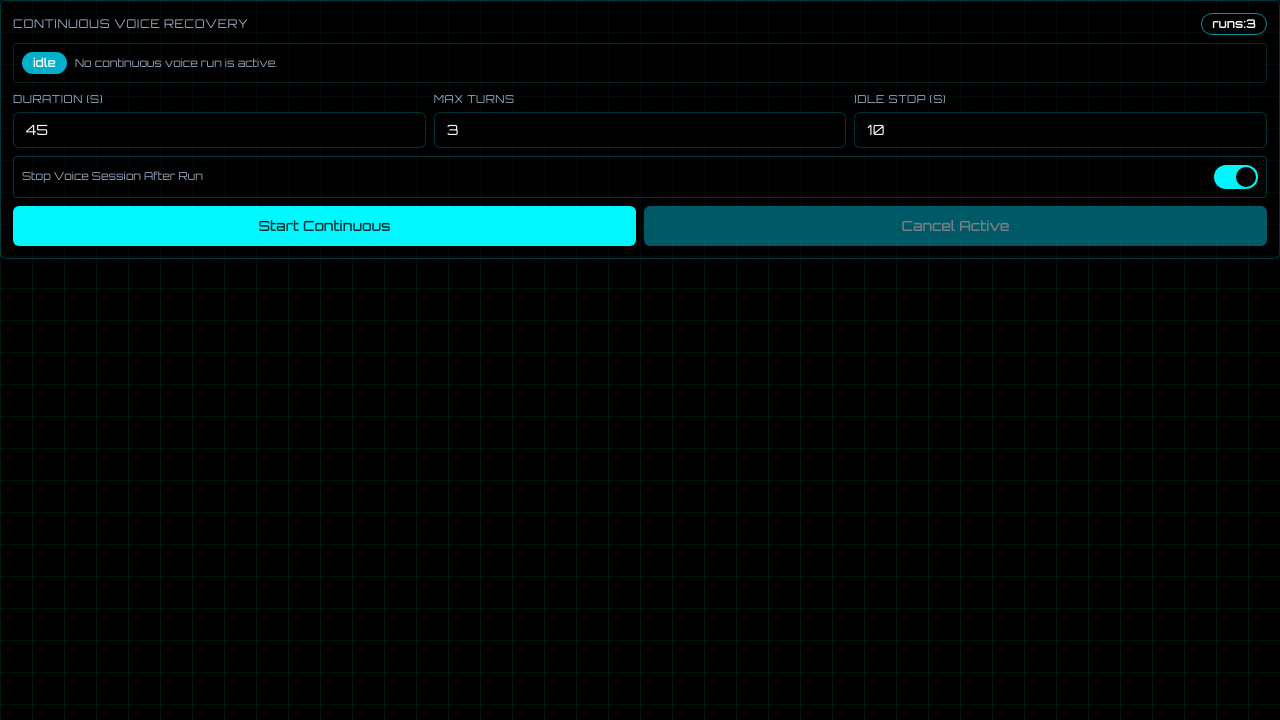
it: VoiceContinuousControls › clamps numeric inputs to supported voice session ranges
Replace the text in the number field with test id "voice-continuous-duration" with "1" at (219, 130), box [13,112,426,148]
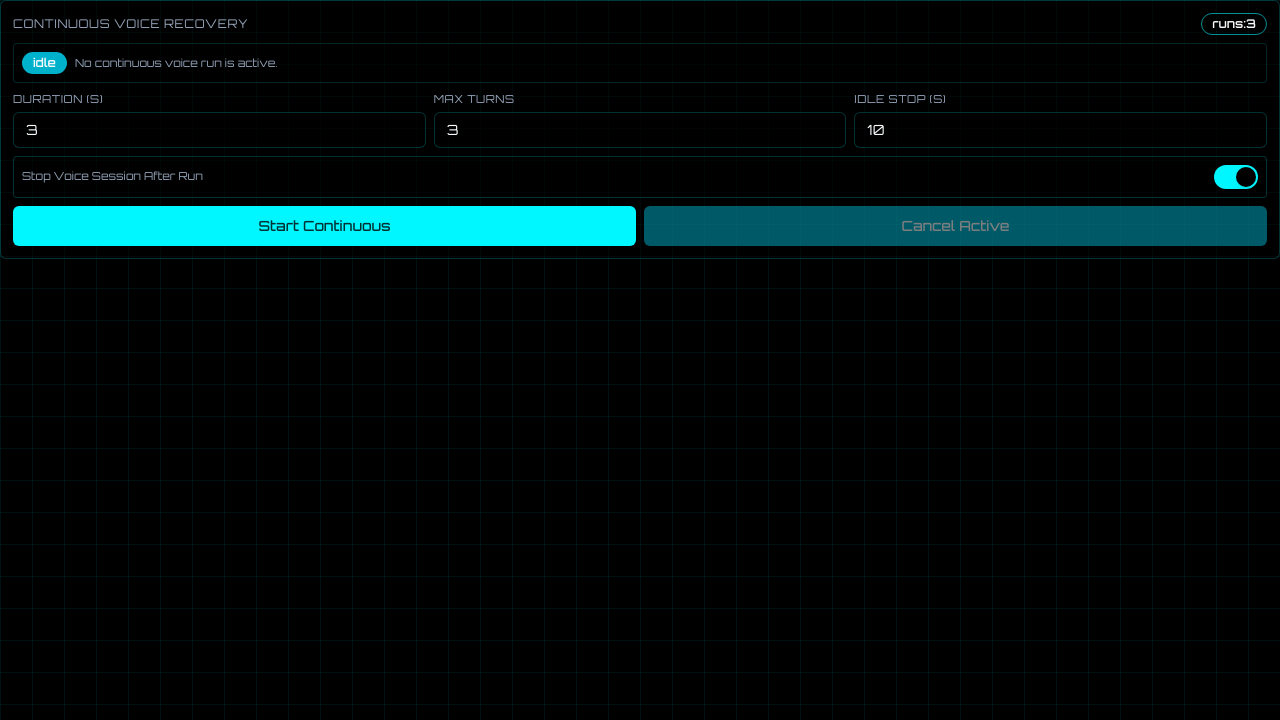
Replace the text in the number field with test id "voice-continuous-duration" with "999" at (219, 130), box [13,112,426,148]
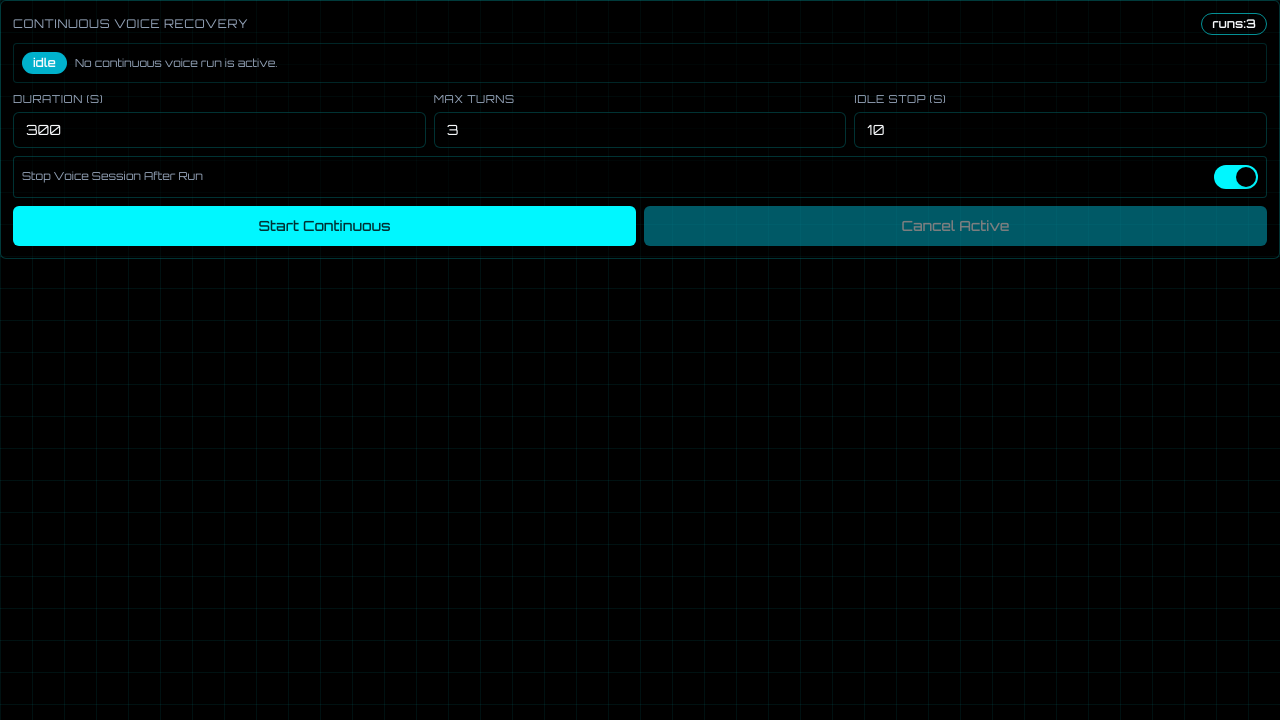
Replace the text in the number field with test id "voice-continuous-max-turns" with "0" at (640, 130), box [434,112,846,148]
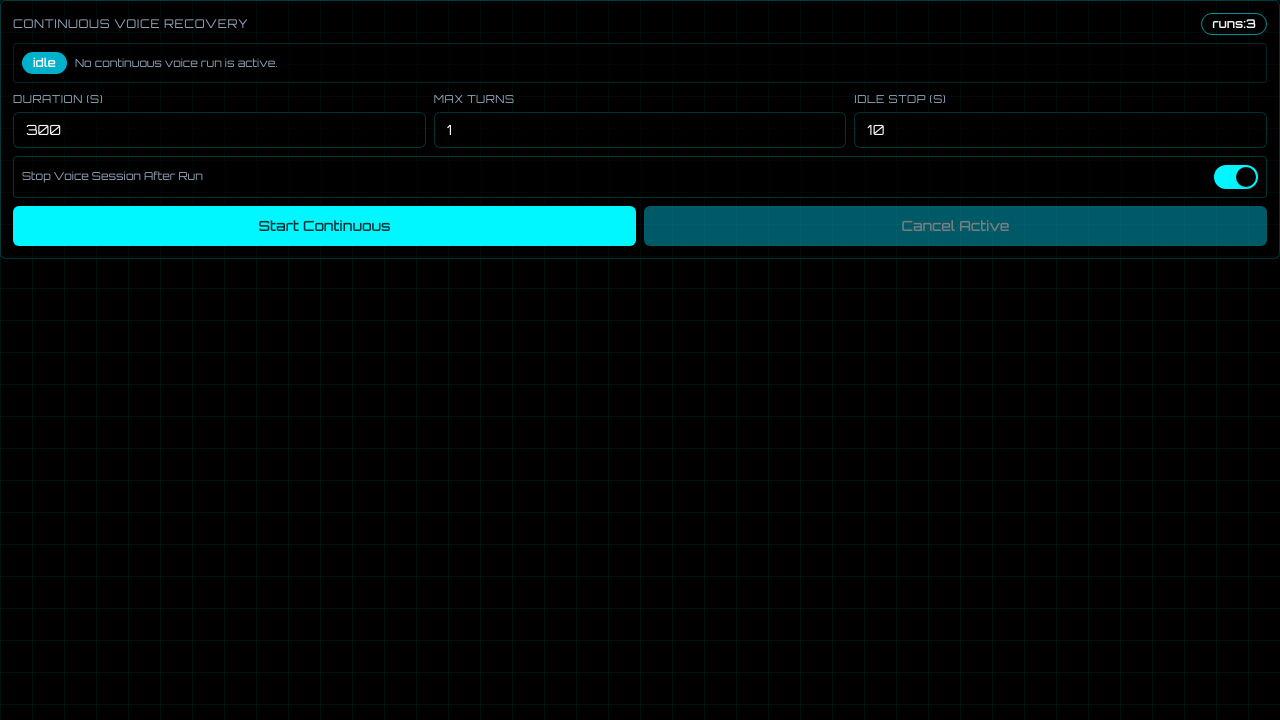
Replace the text in the number field with test id "voice-continuous-max-turns" with "999" at (640, 130), box [434,112,846,148]
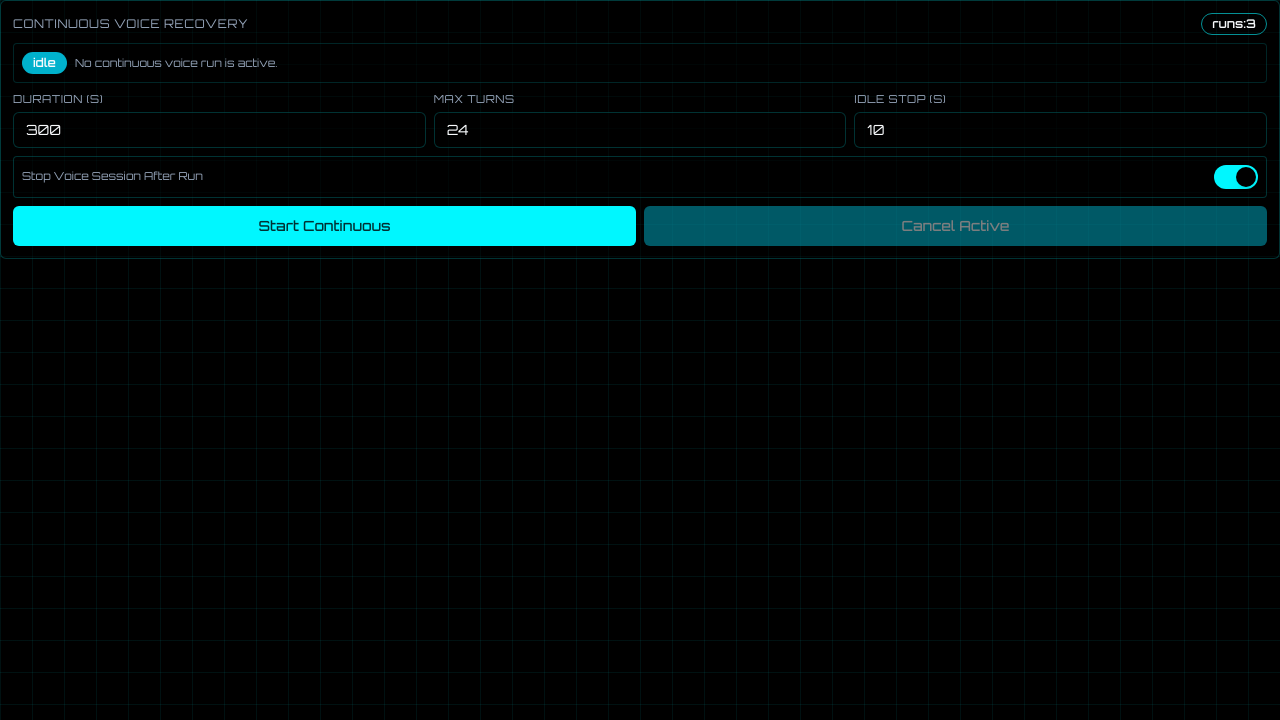
Replace the text in the number field with test id "voice-continuous-idle" with "-4" at (1061, 130), box [854,112,1267,148]
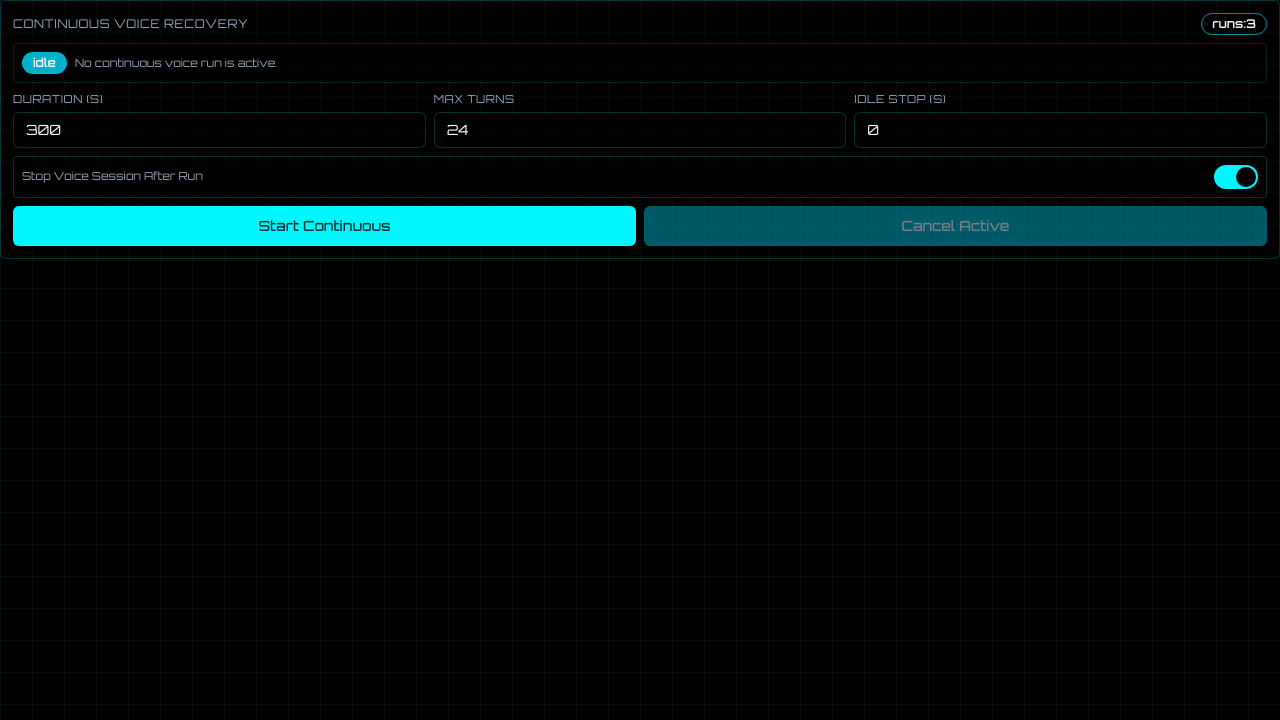
Replace the text in the number field with test id "voice-continuous-idle" with "999" at (1061, 130), box [854,112,1267,148]
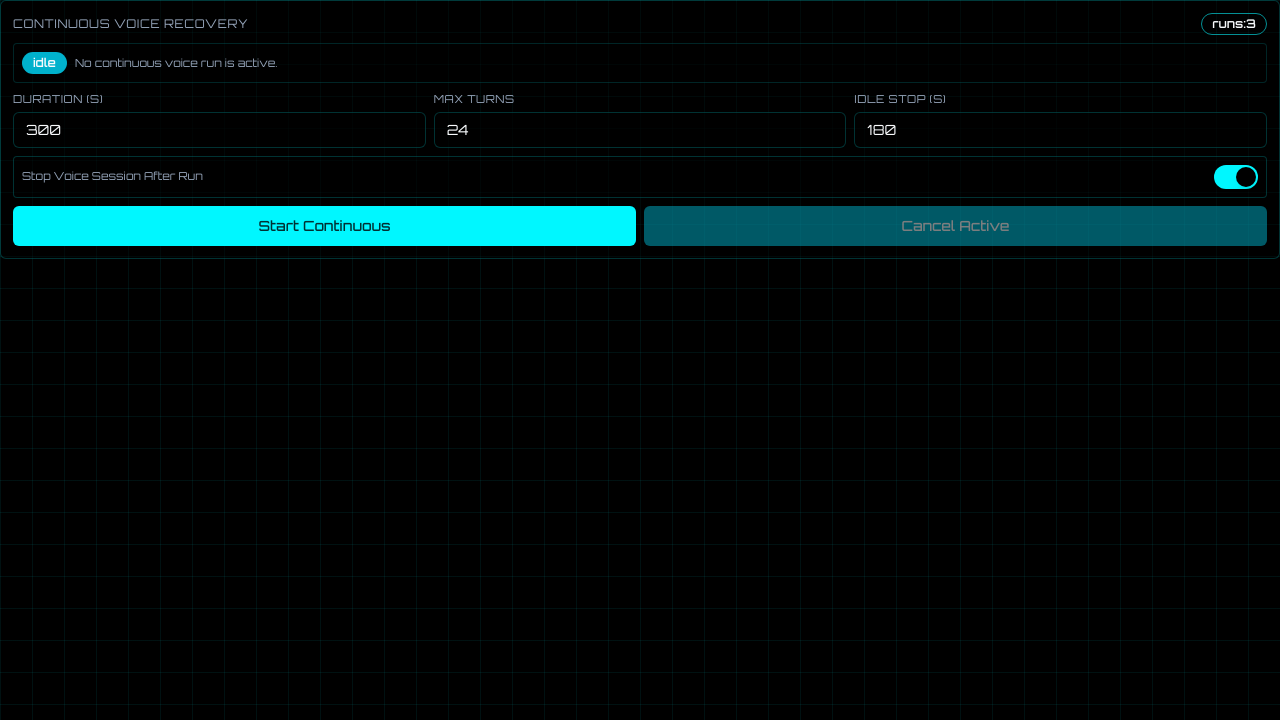
expect the number field with test id "voice-continuous-duration" holds "300": met, box [13,112,426,148]
expect the number field with test id "voice-continuous-max-turns" holds "24": met, box [434,112,846,148]
expect the number field with test id "voice-continuous-idle" holds "180": met, box [854,112,1267,148]
